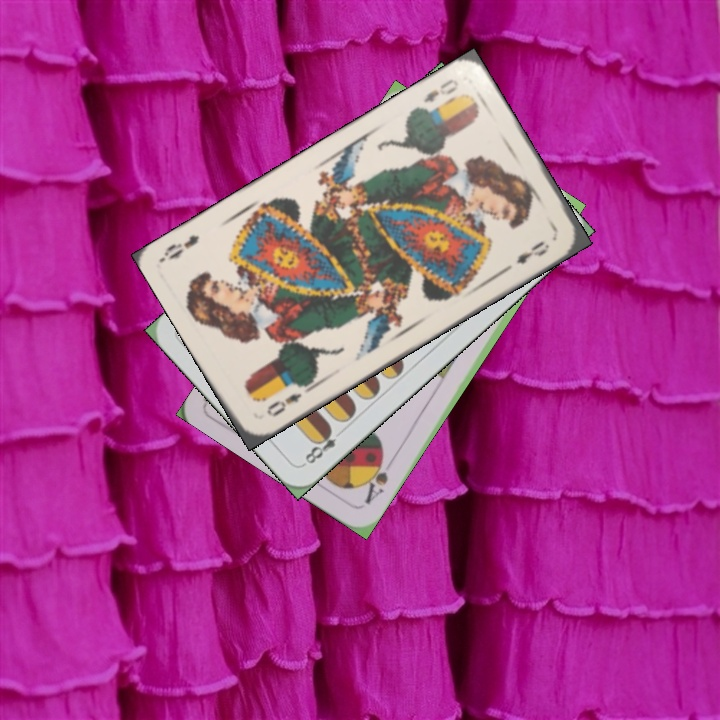E8: (299, 423, 348, 468)
EO: (419, 74, 462, 106), (262, 389, 305, 420)
SA: (360, 450, 391, 507)
